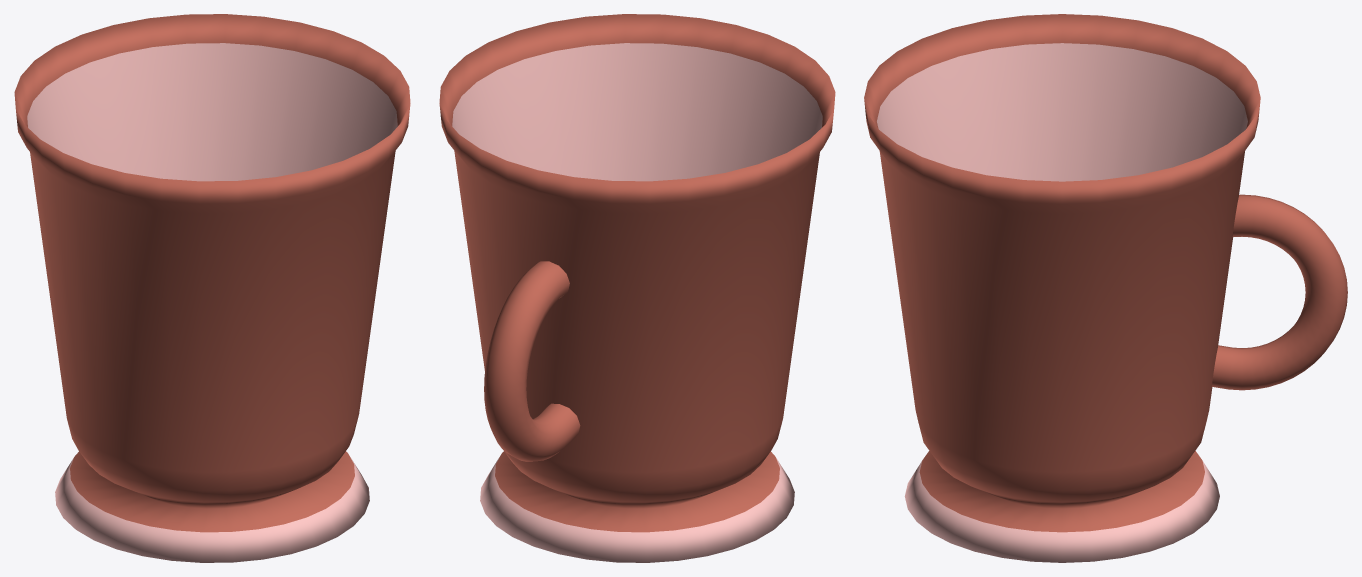
File: Mug.fbx
3 renders of one model, left to right at view 1: azimuth 30°, elevation 25°; view 2: azimuth 150°, elevation 25°; view 3: azimuth 270°, elevation 25°, orthographic.
Visible parts, largest first — view 1: Torus; view 2: Torus; view 3: Torus.
Part boxes in pixels (box(x1,y1,x2,y2)): Torus: box(14, 14, 410, 562); Torus: box(439, 14, 835, 562); Torus: box(864, 14, 1347, 562).
Size of the model in its own units: 251 by 206 by 228.
